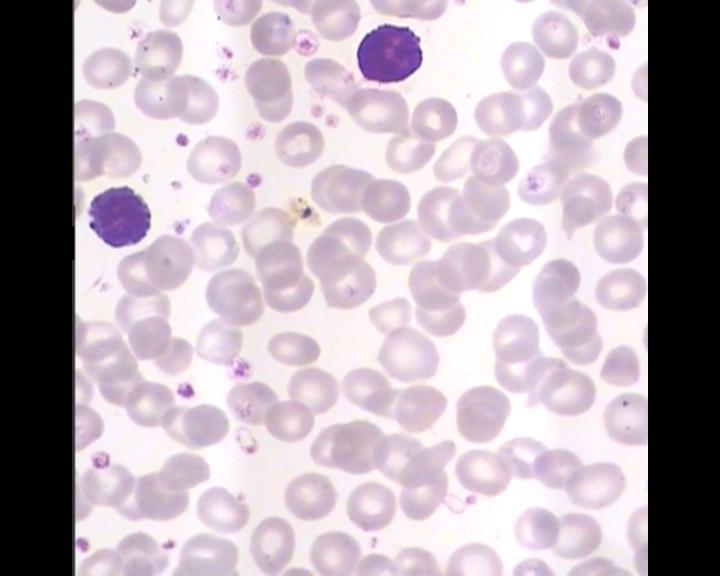baso: (81, 182, 155, 254), (351, 20, 425, 89)
